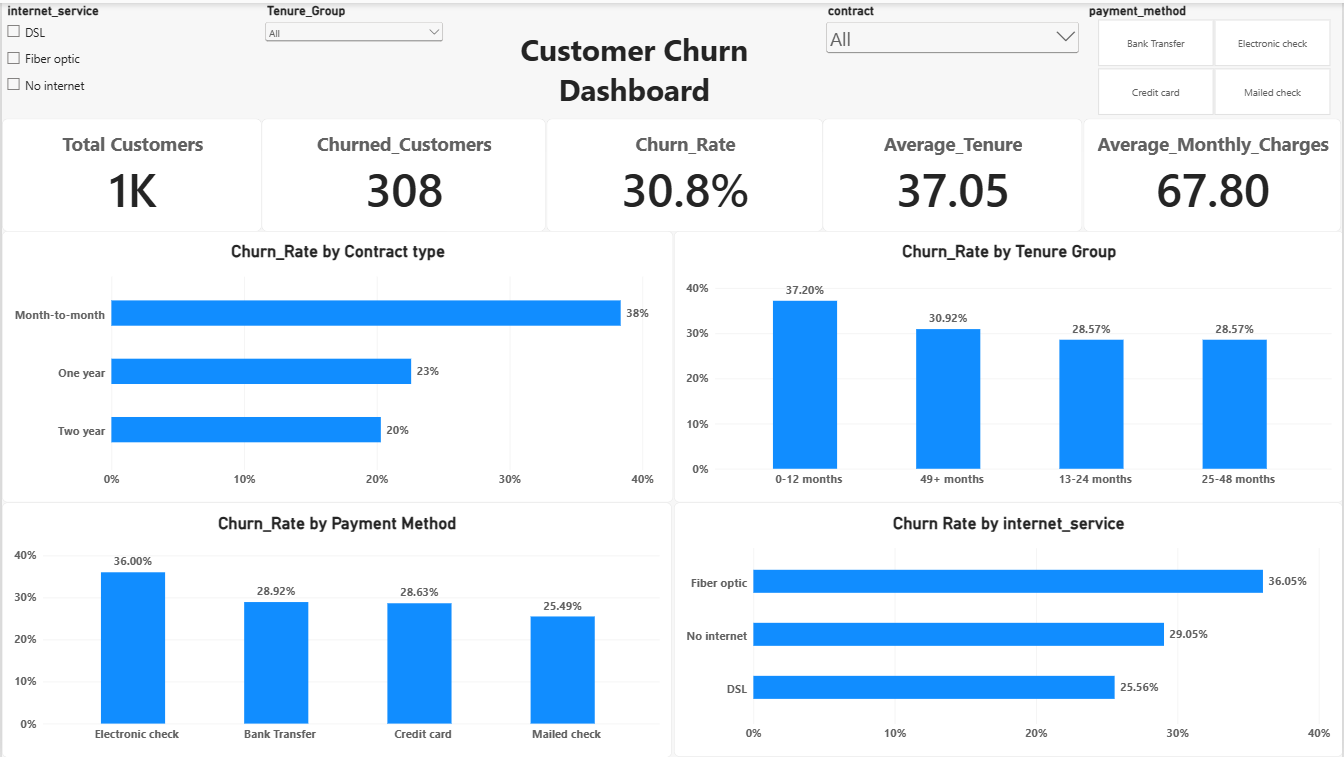

This screenshot's page, from the dashboard's own definition file:
{"tool":"powerbi","page":{"name":"Churn_Dashboard","canvas":[1920,1080],"ordinal":0},"visuals":[{"type":"cardVisual","fields":{"Data":["DAX_Measure_Table.Total Customers"]},"box":[0,164.6,372.2,162.2],"z":0},{"type":"cardVisual","fields":{"Data":["DAX_Measure_Table.Churned_Customers"]},"box":[372.2,164.6,408,162.2],"z":1},{"type":"cardVisual","fields":{"Data":["DAX_Measure_Table.Churn_Rate"]},"box":[780.2,164.6,396.1,162.2],"z":2},{"type":"cardVisual","fields":{"Data":["DAX_Measure_Table.Average_Tenure"]},"box":[1176.3,164.6,372.2,162.2],"z":3},{"type":"cardVisual","fields":{"Data":["DAX_Measure_Table.Average_Monthly_Charges"]},"box":[1548.5,164.6,369.8,162.2],"z":4},{"type":"clusteredBarChart","title":"Churn_Rate by Contract type","fields":{"Category":["Cleaned_Data.contract"],"Y":["Cleaned_Data.Churn Rate"]},"box":[0,326.9,961.5,388.9],"z":5},{"type":"clusteredColumnChart","title":"Churn_Rate by Tenure Group","fields":{"Category":["Cleaned_Data.Tenure_Group"],"Y":["Cleaned_Data.Churn Rate"]},"box":[961.5,326.9,959.1,388.9],"z":6},{"type":"clusteredColumnChart","title":"Churn_Rate by Payment Method","fields":{"Category":["Cleaned_Data.payment_method"],"Y":["Cleaned_Data.Churn Rate"]},"box":[0,715.8,959.1,365],"z":7},{"type":"clusteredBarChart","fields":{"Category":["Cleaned_Data.internet_service"],"Y":["Cleaned_Data.Churn Rate"]},"box":[962,716,958,364],"z":8},{"type":"textbox","box":[637,0,539.2,162.2],"z":9},{"type":"slicer","fields":{"Values":["Cleaned_Data.contract"]},"box":[1176.3,0,372.2,162.2],"z":10},{"type":"slicer","fields":{"Values":["Cleaned_Data.payment_method"]},"box":[1548.5,0,372,162],"z":11},{"type":"slicer","fields":{"Values":["Cleaned_Data.internet_service"]},"box":[0,0,372,162],"z":12},{"type":"slicer","fields":{"Values":["Cleaned_Data.Tenure_Group"]},"box":[372.2,0,264.8,162.2],"z":13}]}

Visuals, with their boxes in screenshot pixels (x1, y1, x2, y2), scaled from the page's 1920x1080 canvas onto the 1344x757 screenshot:
cardVisual - DAX_Measure_Table.Total Customers: rect(0, 115, 261, 229)
cardVisual - DAX_Measure_Table.Churned_Customers: rect(261, 115, 546, 229)
cardVisual - DAX_Measure_Table.Churn_Rate: rect(546, 115, 823, 229)
cardVisual - DAX_Measure_Table.Average_Tenure: rect(823, 115, 1084, 229)
cardVisual - DAX_Measure_Table.Average_Monthly_Charges: rect(1084, 115, 1343, 229)
"Churn_Rate by Contract type" clusteredBarChart: rect(0, 229, 673, 502)
"Churn_Rate by Tenure Group" clusteredColumnChart: rect(673, 229, 1343, 502)
"Churn_Rate by Payment Method" clusteredColumnChart: rect(0, 502, 671, 756)
clusteredBarChart - Cleaned_Data.internet_service x Cleaned_Data.Churn Rate: rect(673, 502, 1343, 756)
textbox: rect(446, 0, 823, 114)
slicer - Cleaned_Data.contract: rect(823, 0, 1084, 114)
slicer - Cleaned_Data.payment_method: rect(1084, 0, 1343, 114)
slicer - Cleaned_Data.internet_service: rect(0, 0, 260, 114)
slicer - Cleaned_Data.Tenure_Group: rect(261, 0, 446, 114)
